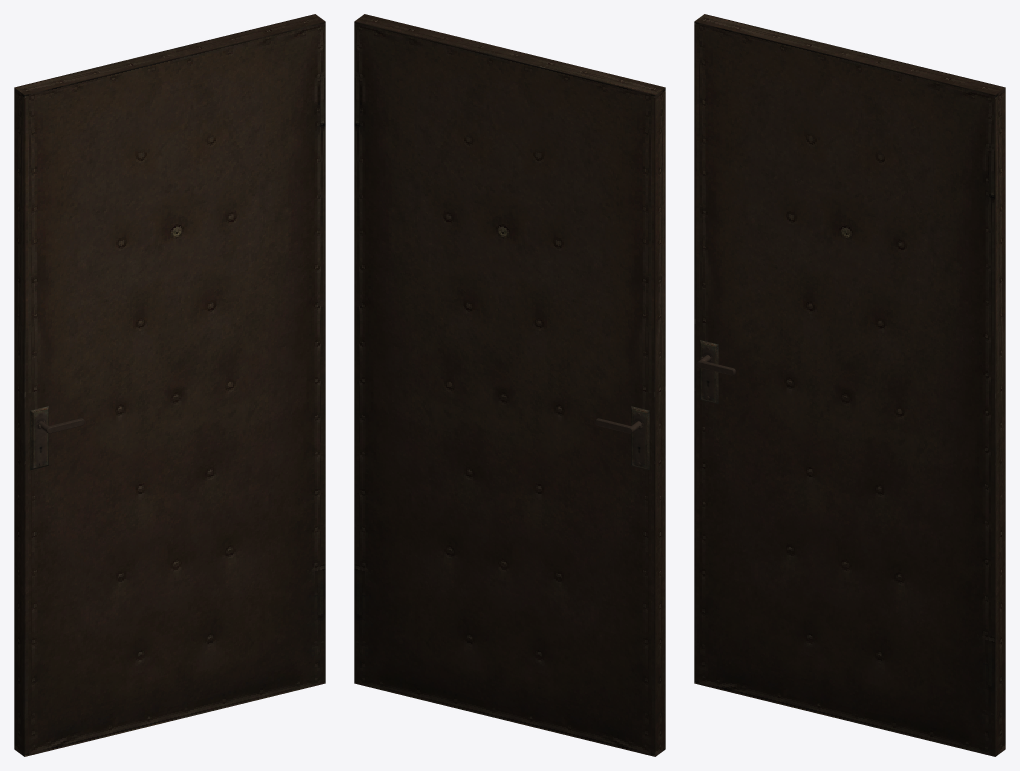
The model's file is door_mp_1_loose.glb.
3 views of the same model, side by side, from view 1: azimuth 30°, elevation 25°; view 2: azimuth 150°, elevation 25°; view 3: azimuth 330°, elevation 25° (orthographic).
Visible parts, largest first — view 1: door_mp_1_loose; view 2: door_mp_1_loose; view 3: door_mp_1_loose.
Part boxes in pixels (x1,y1,x2,y2): door_mp_1_loose: (14, 14, 325, 756); door_mp_1_loose: (354, 14, 665, 756); door_mp_1_loose: (694, 14, 1005, 756).
Size of the model in its own units: 1 by 2.1 by 0.178.
2 materials, 2 textured.
